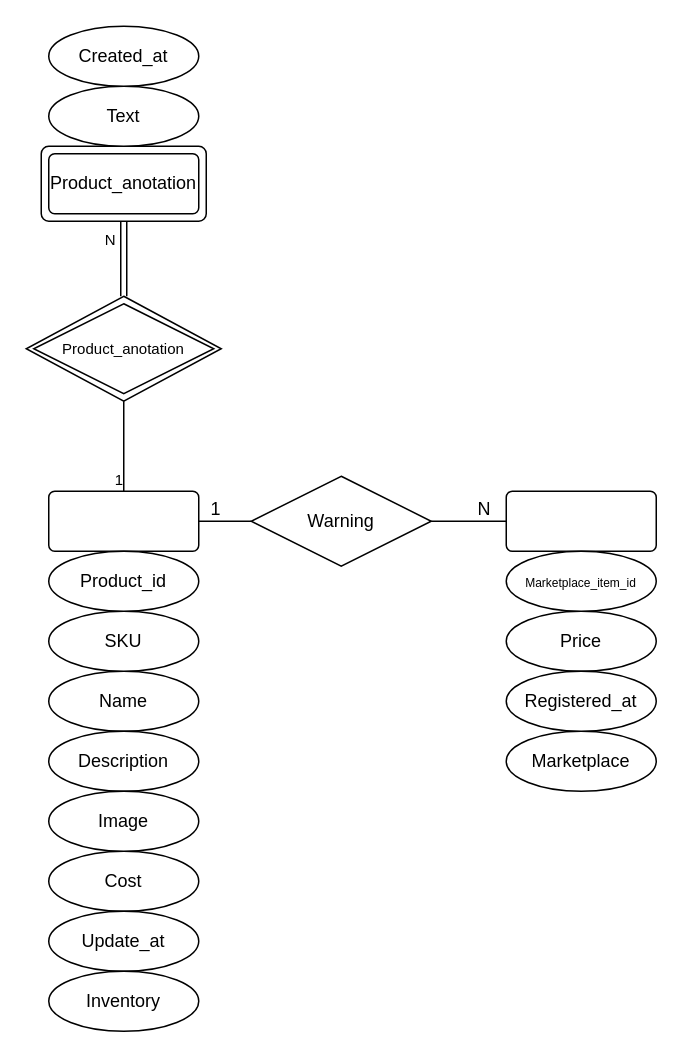
The diagram is 683 pixels wide and 1058 high, and some of its shapes have lost their labels. The box of each missing label's shape, as (x1, y1, x2, y2) in pixels:
Listing: (505, 490, 656, 551)
Product: (47, 490, 199, 551)
